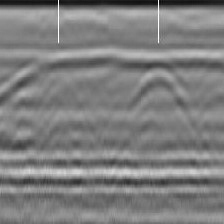Utility: (127, 60, 190, 120)
